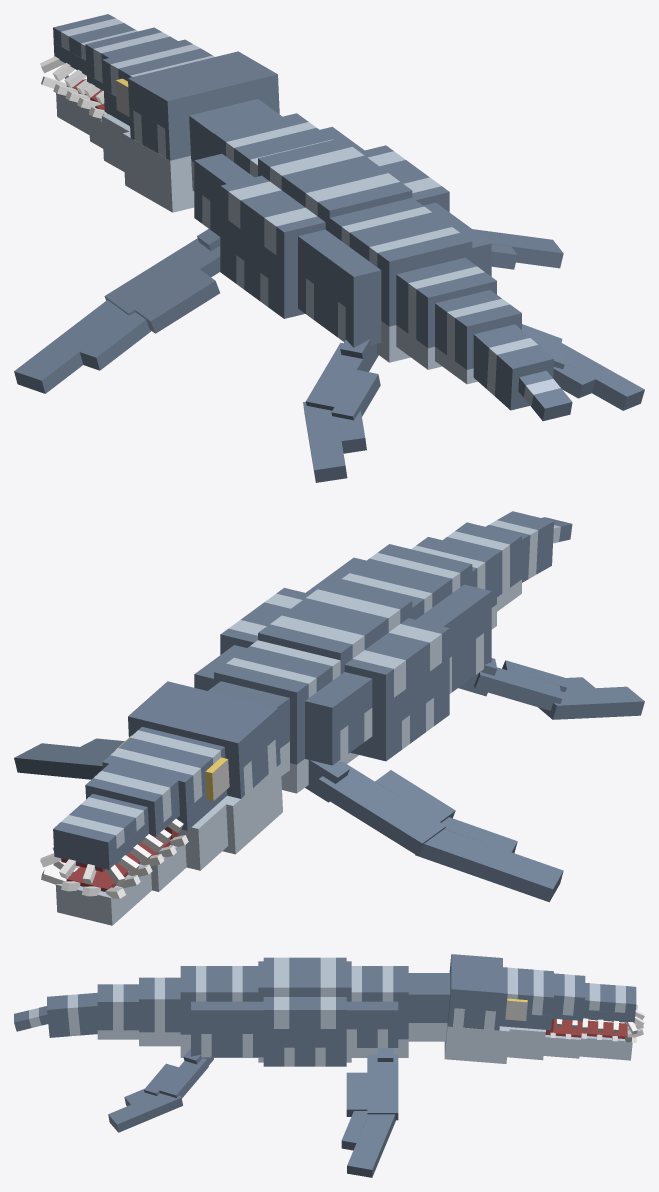
Rendered from liopleurodon.obj.
3 renders of one model, top to bottom at view 1: azimuth 30°, elevation 25°; view 2: azimuth 150°, elevation 25°; view 3: azimuth 270°, elevation 25°, orthographic. The views are drawn at different scales.
Parts seen in each view (by area): view 1: Head, UpperTorso, LowerTorso, Tail, LeftUpperArm, LeftUpperLeg, RightUpperLeg, RightUpperArm; view 2: Head, UpperTorso, LeftUpperArm, LowerTorso, Tail, LeftUpperLeg, RightUpperArm; view 3: Head, UpperTorso, Tail, LowerTorso, RightUpperArm, RightUpperLeg, Head_decal1.
Part boxes in pixels (<box>): Head: <box>40,14,281,212</box>; UpperTorso: <box>194,113,449,318</box>; LowerTorso: <box>298,197,491,362</box>; Tail: <box>396,257,572,421</box>; LeftUpperArm: <box>14,229,220,393</box>; LeftUpperLeg: <box>303,339,380,482</box>; RightUpperLeg: <box>522,324,644,410</box>; RightUpperArm: <box>472,229,563,269</box>; Head: <box>40,681,289,925</box>; UpperTorso: <box>194,580,449,793</box>; LeftUpperArm: <box>305,760,563,902</box>; LowerTorso: <box>306,544,491,693</box>; Tail: <box>411,511,572,629</box>; LeftUpperLeg: <box>458,658,644,719</box>; RightUpperArm: <box>14,738,124,779</box>; Head: <box>408,954,644,1063</box>; UpperTorso: <box>258,957,408,1066</box>; Tail: <box>14,977,180,1046</box>; LowerTorso: <box>180,966,263,1057</box>; RightUpperArm: <box>341,1048,398,1177</box>; RightUpperLeg: <box>108,1048,213,1132</box>; Head_decal1: <box>505,1000,527,1021</box>.
Size of the model in its own units: 19.53 by 6.48 by 30.42.
